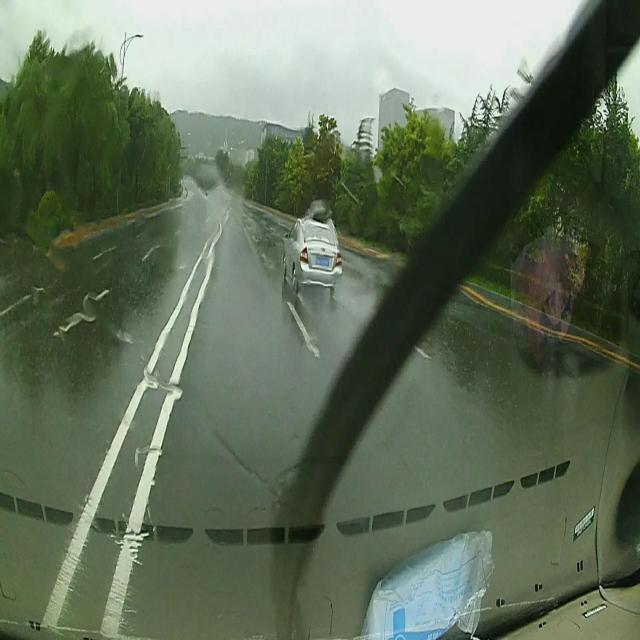car: (281, 214, 342, 298)
